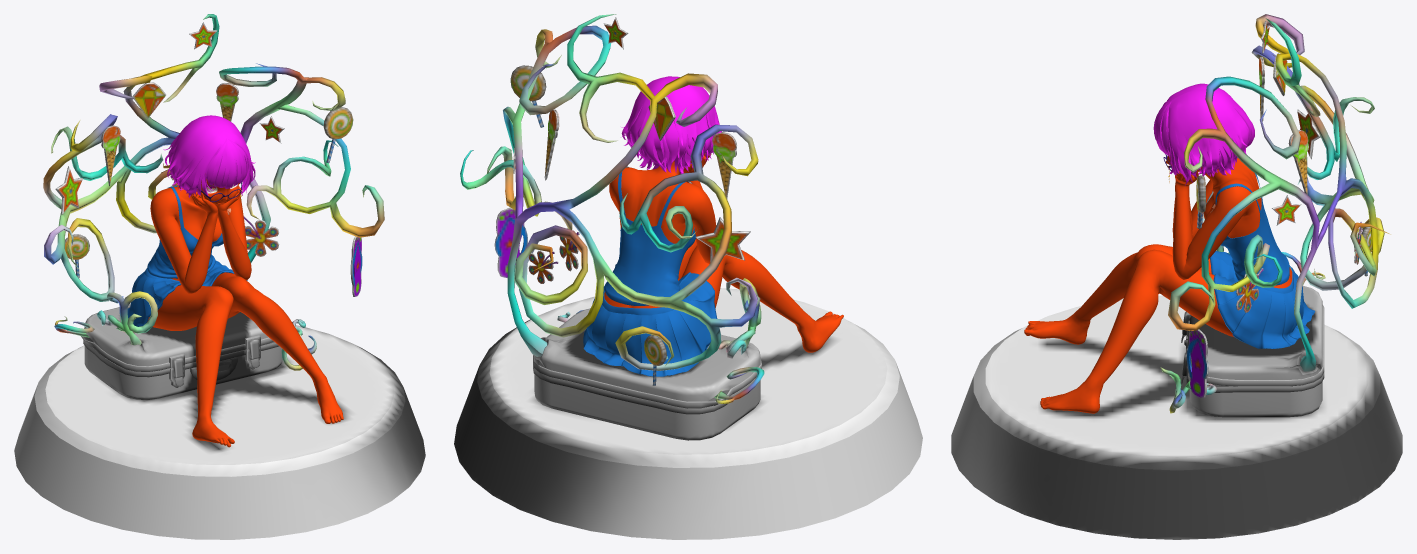
Rendered from just_a_girl_C0-L5_deq_tri.obj.
The picture shows the model from 3 angles, left to right: view 1: azimuth 30°, elevation 25°; view 2: azimuth 150°, elevation 25°; view 3: azimuth 270°, elevation 25°; orthographic projection. The views are drawn at different scales.
Size of the model in its own units: 136 by 145 by 135.
Materials: 1 (1 with a texture image).
